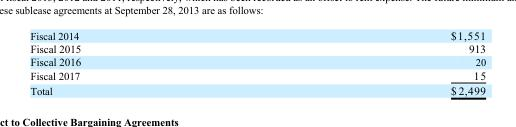table: (29, 28, 485, 96)
table column: (29, 28, 265, 96), (265, 28, 485, 96)
table row: (29, 41, 485, 55), (29, 68, 485, 82), (29, 82, 485, 96), (29, 28, 485, 41), (29, 55, 485, 68)
